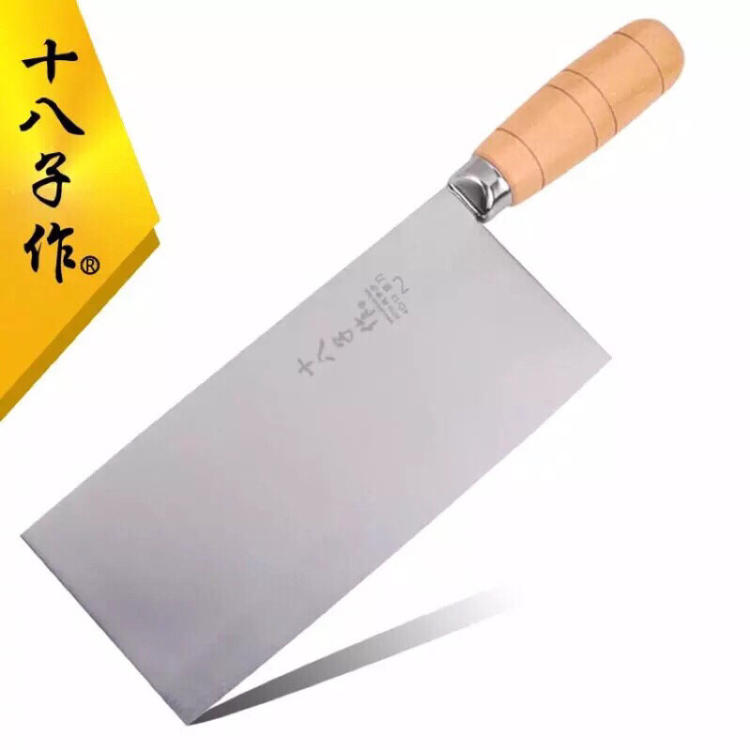knief: (77, 35, 692, 696)
